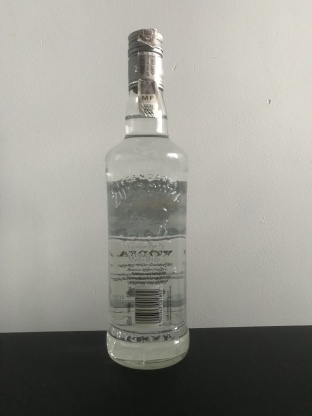nakretka: (125, 25, 165, 93)
